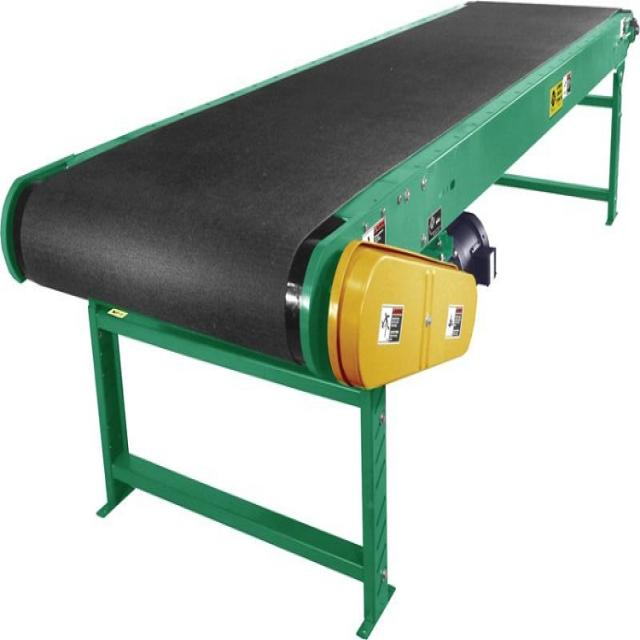conveyor: (5, 0, 637, 628)
